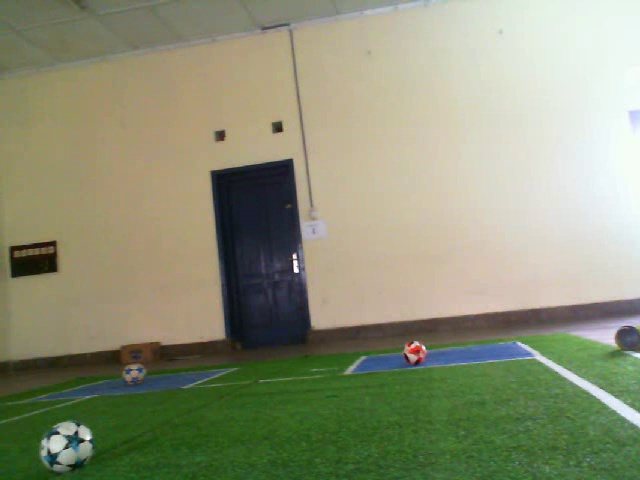ball: (36, 417, 96, 476), (118, 360, 149, 389), (400, 339, 429, 367)
